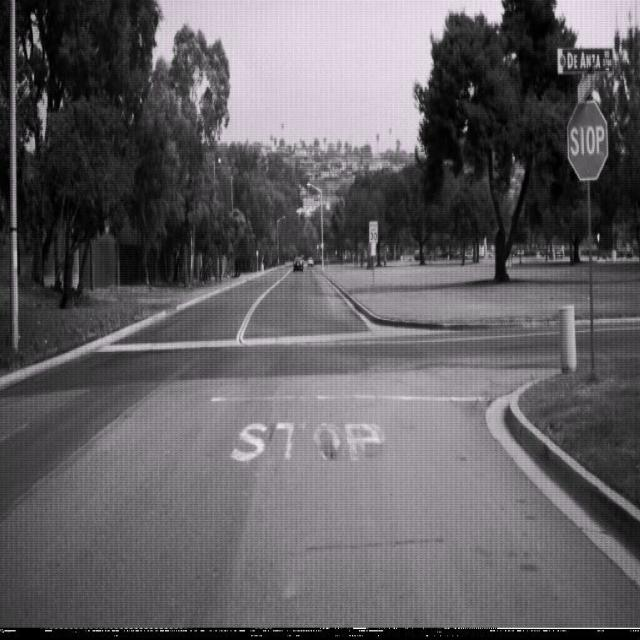stop_sign: (566, 98, 608, 182)
